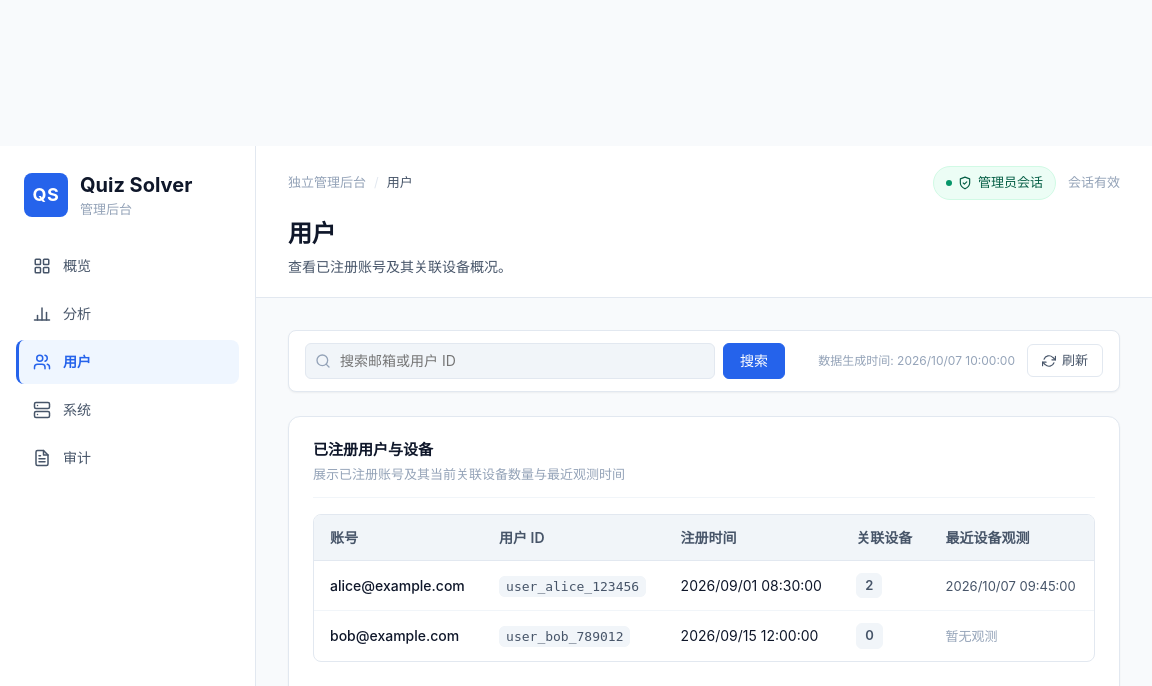
Scenario: Admin Console UI & Analytics UI Tests › Phase 11D2 Users Directory Tests › D2-USERS-05: clear search clears input and re-fetches first page with no query
(page scrolled)
Step 1. Type "bob" into the field with placeholder "搜索邮箱或用户 ID" → [510, 360], box [305, 342, 715, 378]
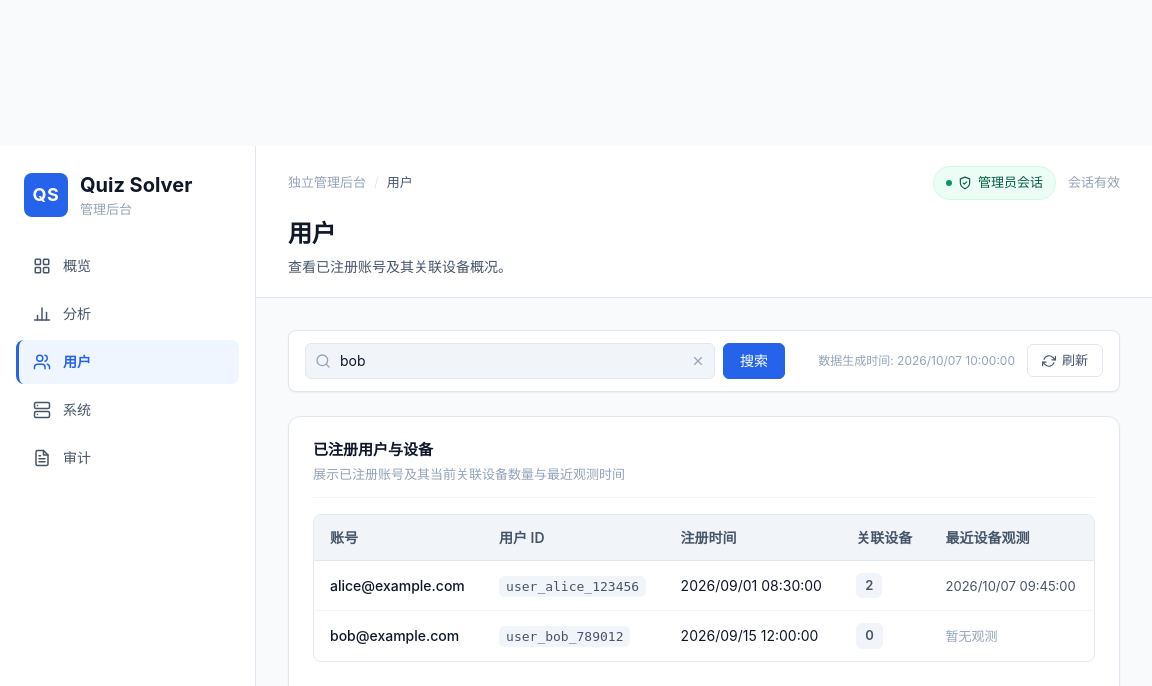
Step 2. Click the button "搜索" → [754, 360], box [723, 342, 785, 378]
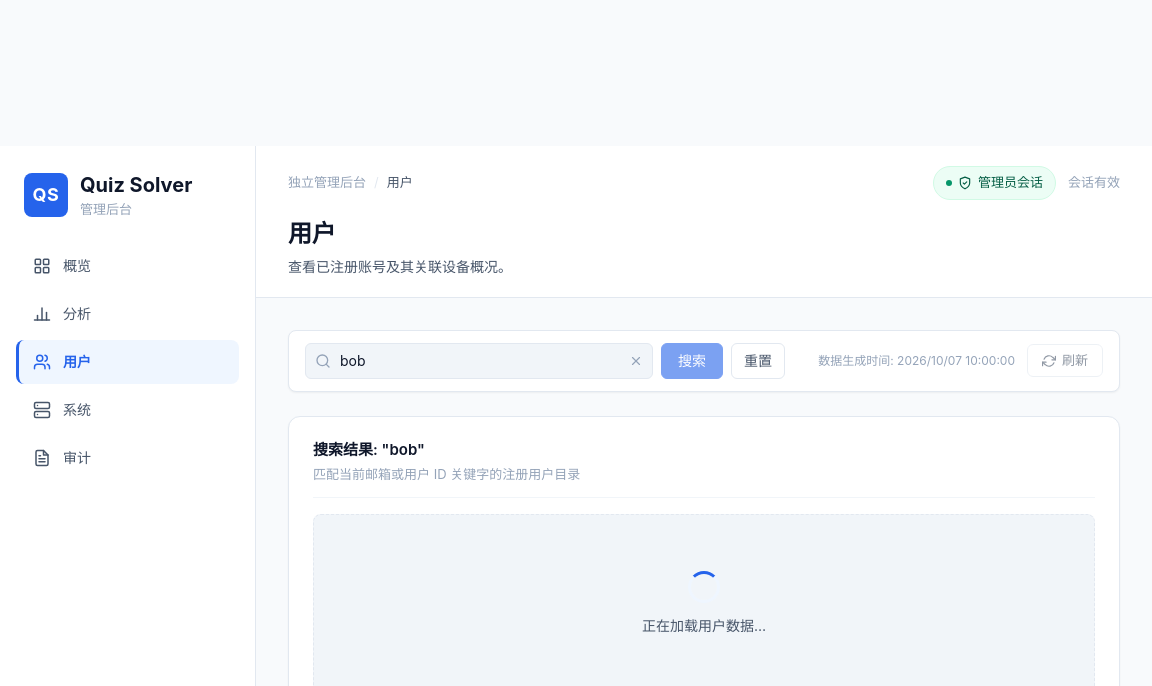
Click clear input icon
Step 3. Click the button named "清除搜索输入" → [636, 360], box [627, 352, 645, 370]
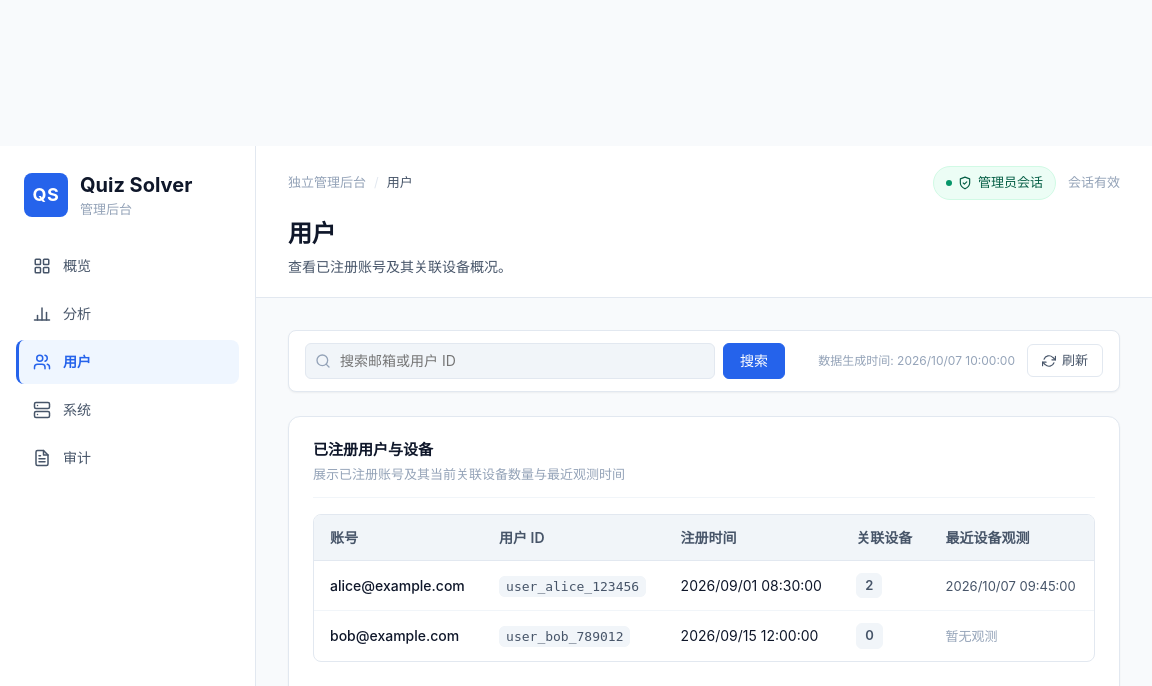
Expected: the field with placeholder "搜索邮箱或用户 ID" is empty, [305, 342, 715, 378]
